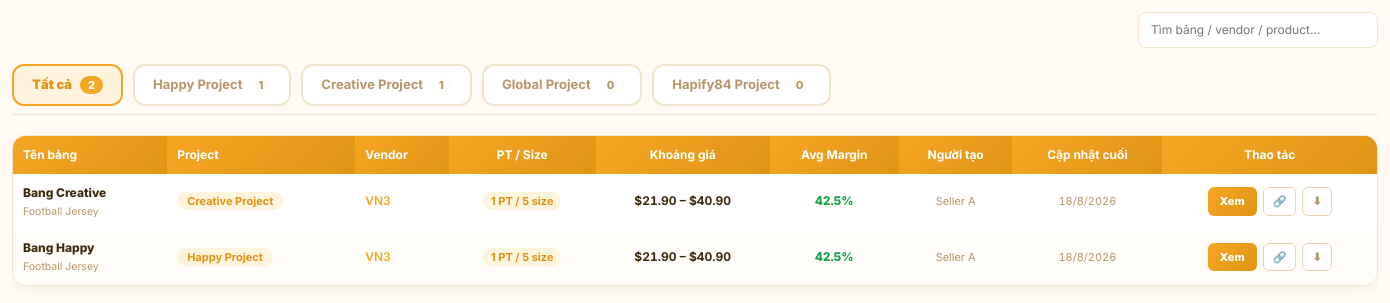
Test: project lưu dạng nhãn — regression 2026-08 › bấm chip lọc ra đúng các bảng, không còn danh sách rỗng
expect the text "Bang Creative" is shown: met, box [23, 184, 106, 200]
Click the button "Creative Project 1" at (387, 85), box [301, 64, 472, 106]
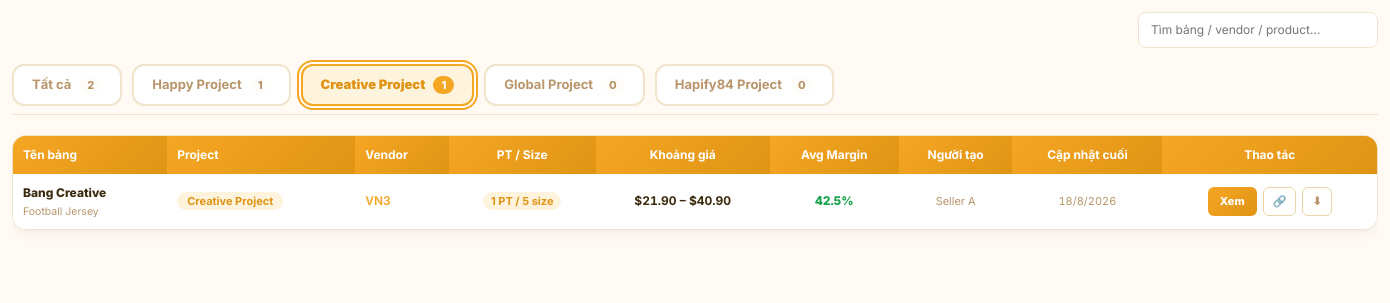
expect the text "Bang Creative" is shown: met, box [23, 184, 106, 200]
expect the text "Bang Happy" is gone: met
